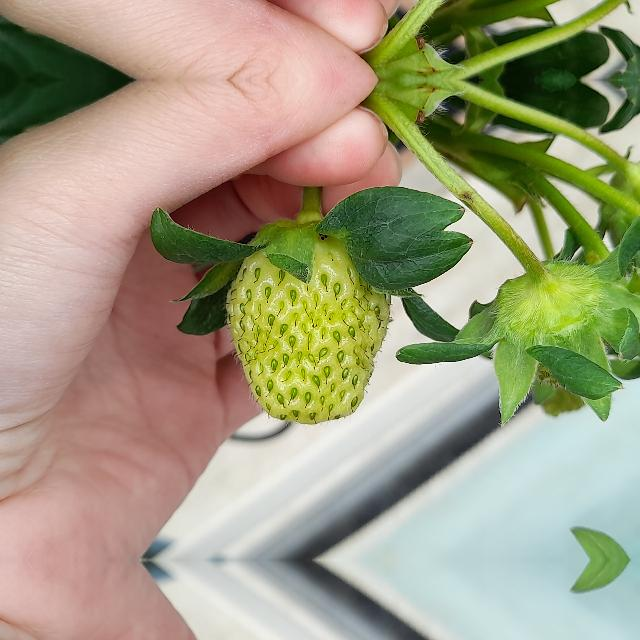Health_25: (226, 232, 390, 424)
